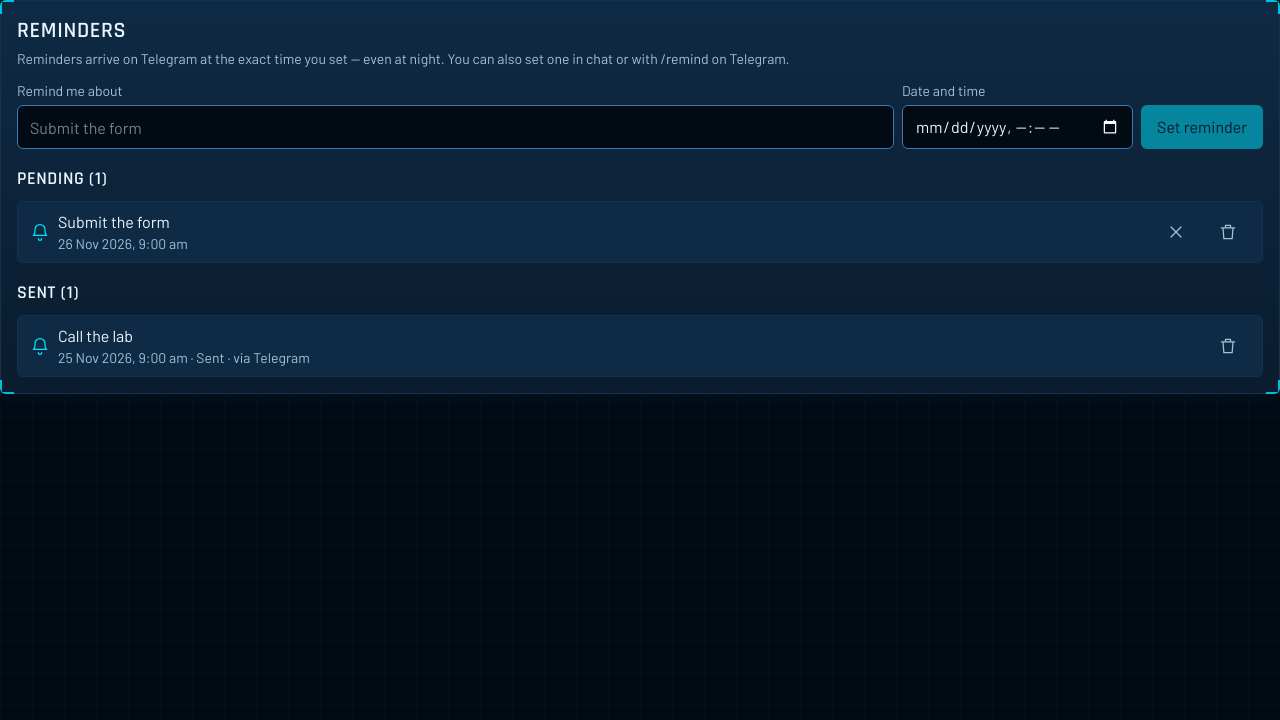
it: reminder board (Phase 3) › cancels a pending reminder and deletes a sent one
Click the button named "Cancel reminder: Submit the form": (1176, 232) [1154,210,1198,254]
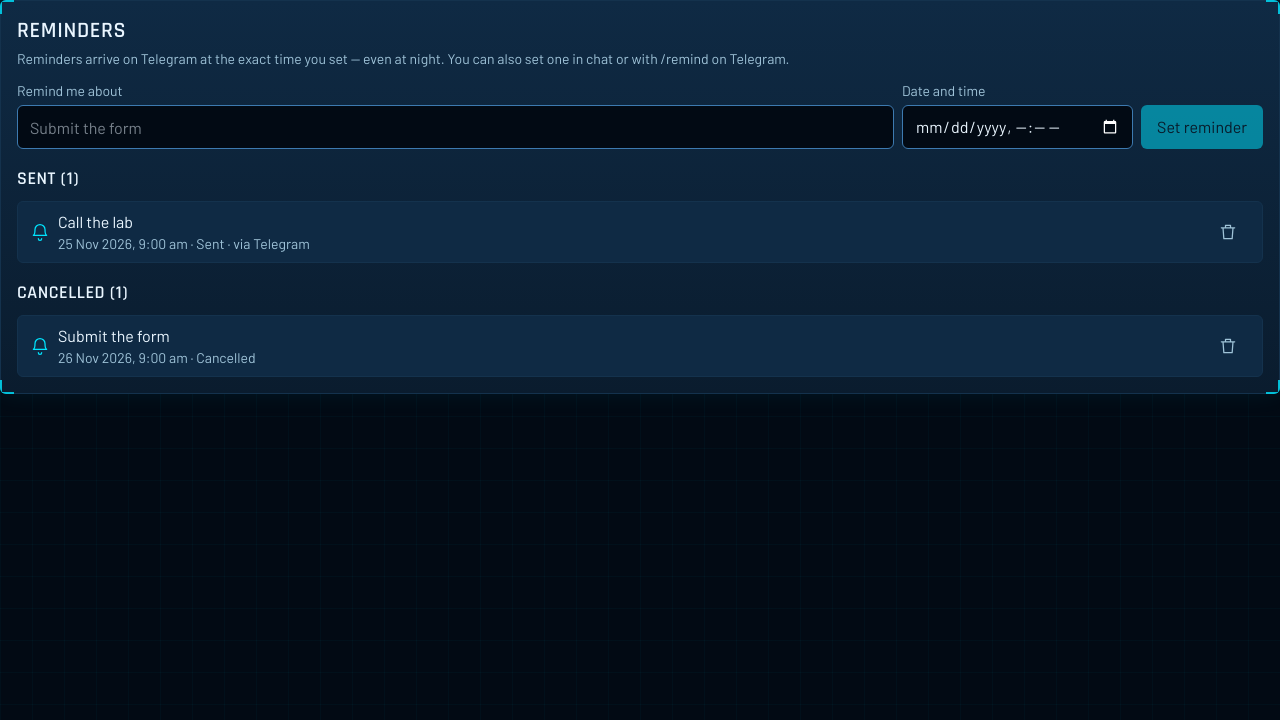
Expected: the heading "Cancelled (1)" is shown, [17,281,128,304]
Click the button named "Delete reminder: Call the lab": (1228, 232) [1206,210,1250,254]
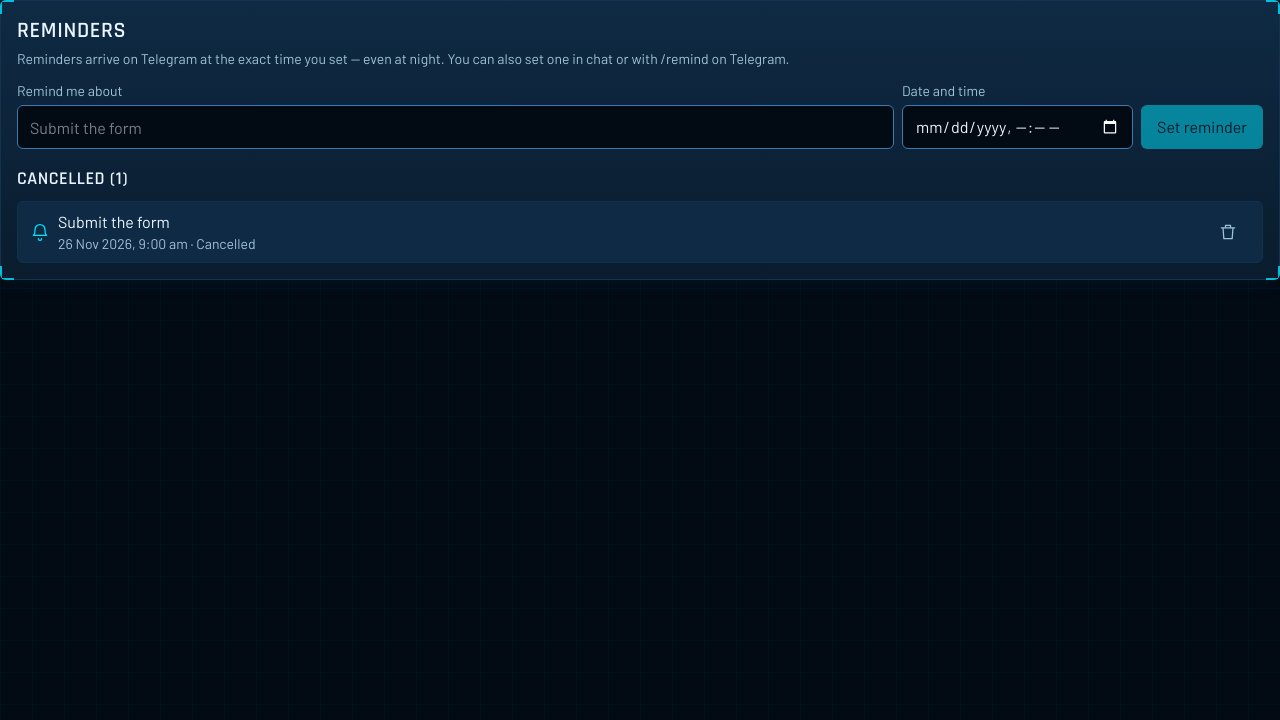
Expected: the text "Call the lab" is gone
